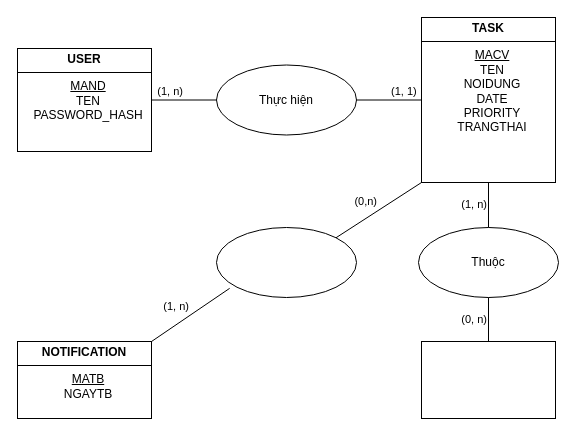
Some shapes in this 576 by 436 pixel diagram are drawn without their labels. The shapes that lost their labels are listed below. From the top down, each one's box as (x1, y1, x2, y2) in pixels, then its label:
(216, 226, 356, 298): Thông báo
(420, 340, 556, 418): CATEGORIES MALOAI TEN
